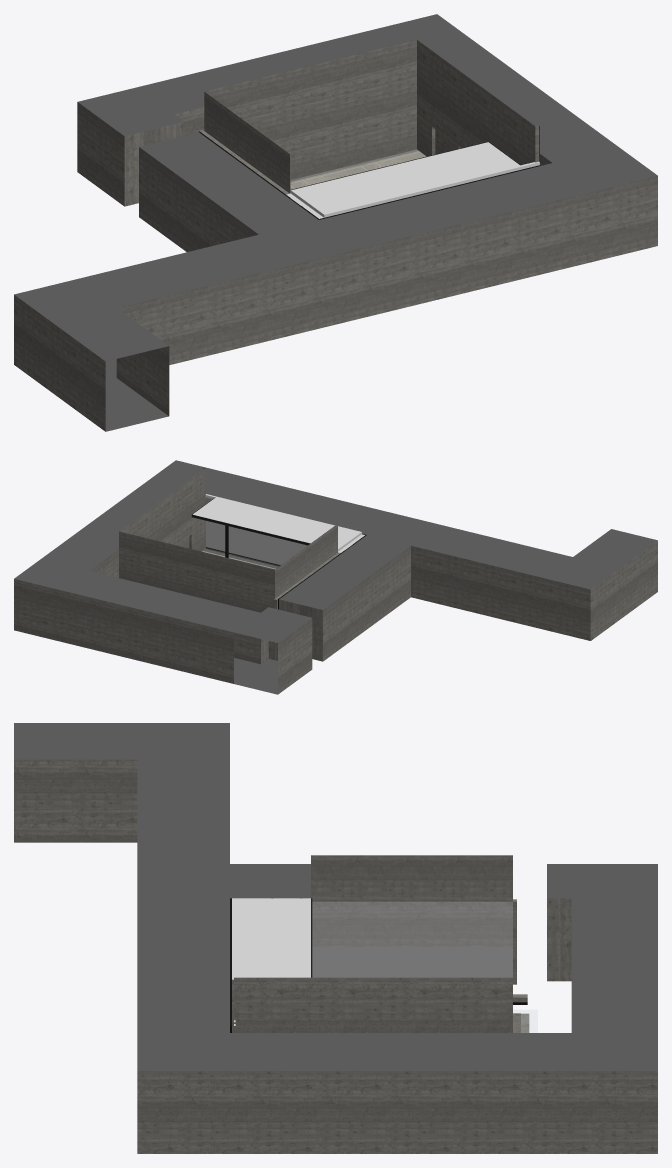
File: suiban_c.glb
3 views of the same model, one above another, from view 1: azimuth 30°, elevation 25°; view 2: azimuth 150°, elevation 25°; view 3: azimuth 270°, elevation 25° (orthographic). The views are drawn at different scales.
Visible parts, largest first — view 1: Cube; view 2: Cube; view 3: Cube.
Part boxes in pixels (<box>): Cube: <box>14,14,657,431</box>; Cube: <box>14,460,657,694</box>; Cube: <box>14,723,657,1153</box>.
Bounding box in the file's own units: 33.33 × 6.23 × 26.08.
Materials: 4 (4 with a texture image).
